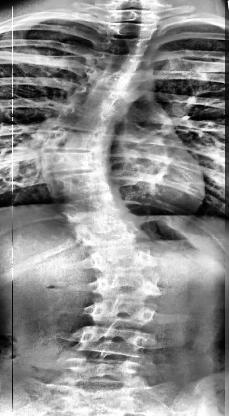Vertebrae: (93, 242, 156, 276), (58, 196, 132, 224), (78, 219, 142, 251), (79, 326, 149, 354), (49, 172, 119, 200), (63, 357, 148, 379), (74, 87, 138, 115), (92, 299, 158, 325), (60, 106, 120, 134), (44, 150, 112, 174), (47, 132, 115, 156), (99, 273, 157, 297), (86, 70, 138, 92), (96, 53, 148, 75), (100, 37, 148, 59), (106, 20, 158, 40)
